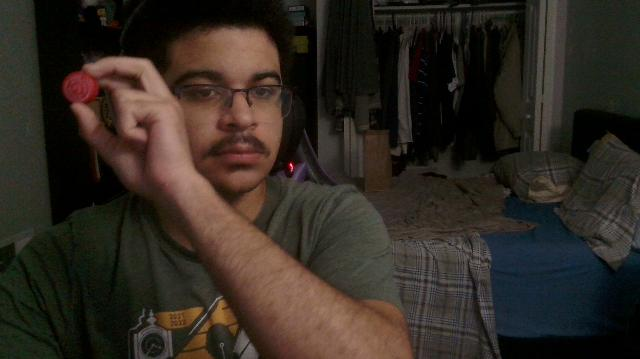cap: (64, 72, 98, 104)
